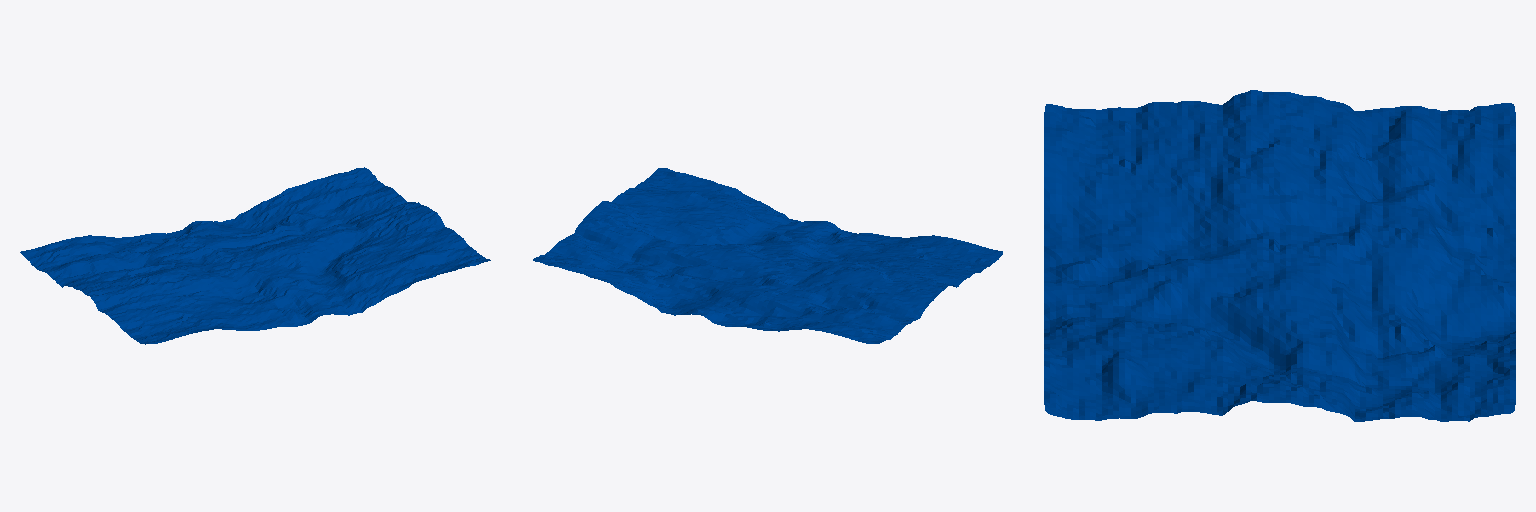
The robot description file, URDF, robot "rough_surface":
<robot name="rough_surface">
  <gazebo>
    <static>true</static>
  </gazebo>

  <link name="rough_water_surface">
    <visual>
      <geometry>
        <mesh filename="package://ouster_description/meshes/sim-to-real/rough_water_surface.stl" scale="1.0 0.8 1.0"/>
      </geometry>
      <origin xyz="0 0 0" rpy="0 0 0"/>
      <material name="blue_water">
        <color rgba="0.0 0.3 0.6 0.9"/>
      </material>
    </visual>
    <collision>
      <geometry>
        <mesh filename="package://ouster_description/meshes/sim-to-real/rough_water_surface.stl" scale="1.0 0.8 1.0"/>
      </geometry>
      <origin xyz="0 0 0" rpy="0 0 0"/>
    </collision>
    <inertial>
      <mass value="50"/>
      <inertia ixx="1" ixy="0" ixz="0" iyy="1" iyz="0" izz="1"/>
    </inertial>
  </link>
</robot>

--- Facts derived from the render (not from the file) ---
The picture shows the robot from 3 angles, left to right: view 1: azimuth 30°, elevation 25°; view 2: azimuth 150°, elevation 25°; view 3: azimuth 270°, elevation 25°; orthographic projection.
Robot: rough_surface — 1 links, 0 joints (none); root link rough_water_surface; default pose: every joint at zero.
Visible links, largest first — view 1: rough_water_surface; view 2: rough_water_surface; view 3: rough_water_surface.
Link boxes in pixels (<box>): rough_water_surface: <box>20,167,490,344</box>; rough_water_surface: <box>533,168,1002,343</box>; rough_water_surface: <box>1044,90,1515,421</box>.
Bounding box of the posed robot: 6 × 3.84 × 0.493 m (x, y, z).
Meshes: 1 distinct files referenced, 1 mesh visuals loaded (1 binary STL).